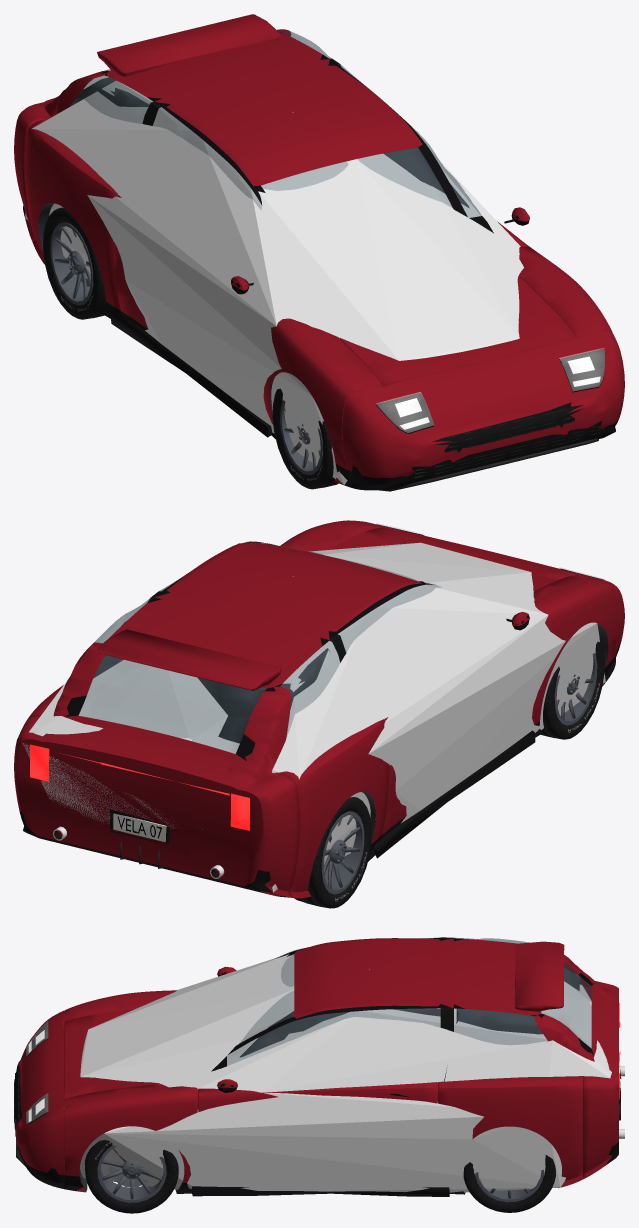
File: noctra_vela_lod1.glb
3 renders of one model, top to bottom at view 1: azimuth 30°, elevation 25°; view 2: azimuth 150°, elevation 25°; view 3: azimuth 270°, elevation 25°, orthographic. The views are drawn at different scales.
Visible parts, largest first — view 1: col_body, body, trim, glass, wheel_RR, wheel_FR, lights_front, interior, underbody; view 2: body, col_body, glass, trim, wheel_RR, wheel_FR, interior, lights_rear, plate_rear, underbody; view 3: col_body, body, glass, trim, wheel_FL, interior, wheel_RL, lights_front.
Boxes of the visible parts, left/top/right/bottom form: col_body: left=25, top=80, right=523, bottom=484; body: left=14, top=29, right=624, bottom=490; trim: left=97, top=14, right=604, bottom=491; glass: left=70, top=31, right=481, bottom=217; wheel_RR: left=43, top=207, right=105, bottom=319; wheel_FR: left=272, top=388, right=338, bottom=489; lights_front: left=376, top=348, right=604, bottom=432; interior: left=70, top=77, right=469, bottom=207; underbody: left=38, top=203, right=602, bottom=488; body: left=14, top=520, right=624, bottom=898; col_body: left=22, top=542, right=605, bottom=892; glass: left=79, top=541, right=441, bottom=753; trim: left=97, top=524, right=603, bottom=868; wheel_RR: left=294, top=797, right=371, bottom=908; wheel_FR: left=541, top=638, right=604, bottom=739; interior: left=94, top=621, right=329, bottom=743; lights_rear: left=30, top=744, right=249, bottom=830; plate_rear: left=110, top=809, right=169, bottom=843; underbody: left=36, top=623, right=608, bottom=897; col_body: left=79, top=954, right=611, bottom=1192; body: left=14, top=938, right=618, bottom=1194; glass: left=227, top=937, right=591, bottom=1065; trim: left=14, top=941, right=620, bottom=1196; wheel_FL: left=84, top=1140, right=178, bottom=1213; interior: left=240, top=967, right=581, bottom=1081; wheel_RL: left=463, top=1155, right=555, bottom=1212; lights_front: left=26, top=1021, right=47, bottom=1123.
Bounding box in the file's own units: 1.86 × 1.42 × 4.13.
15 materials, 3 textured.
